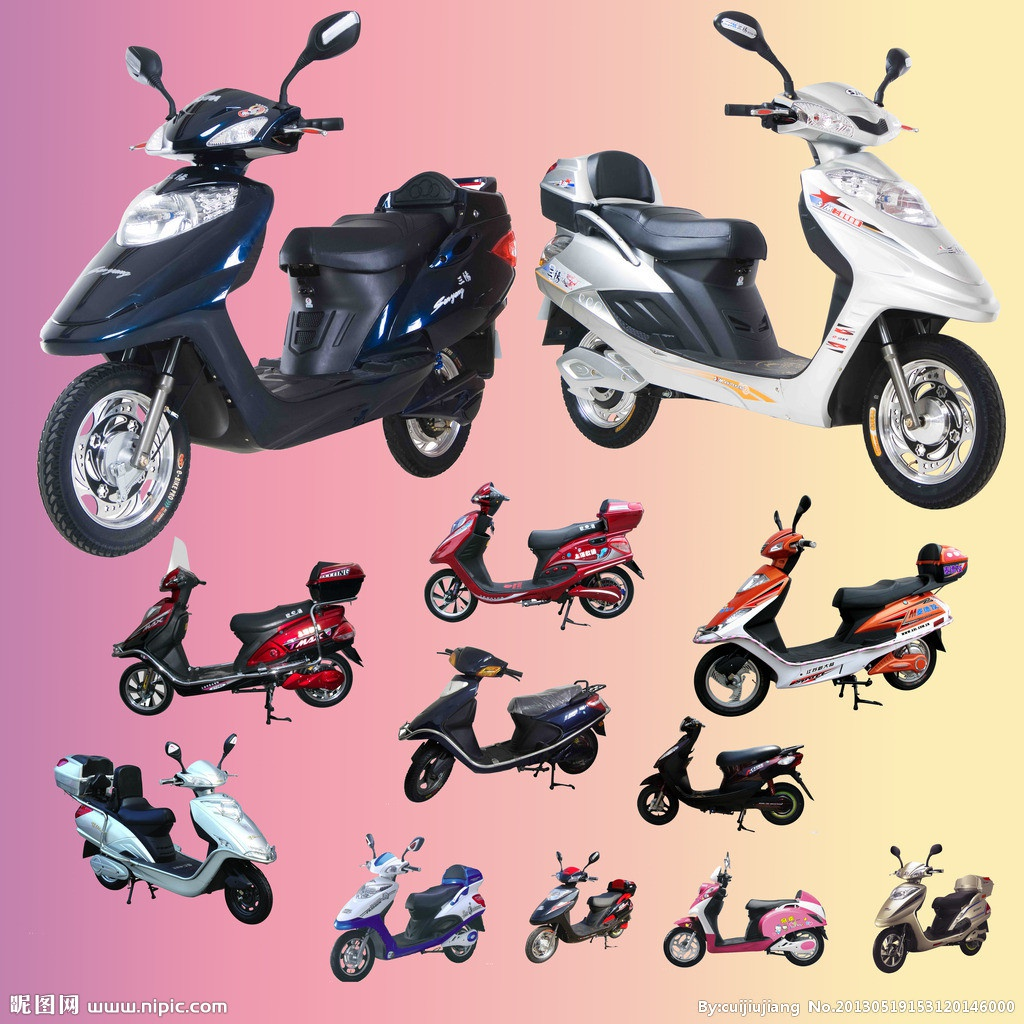non-vehicle: (35, 89, 519, 557), (540, 80, 1006, 488), (693, 515, 967, 714), (53, 725, 280, 928), (112, 559, 371, 724), (403, 641, 613, 805), (422, 495, 648, 628), (329, 832, 491, 984), (634, 718, 812, 832), (664, 858, 829, 972), (870, 848, 996, 978), (521, 853, 640, 966)
